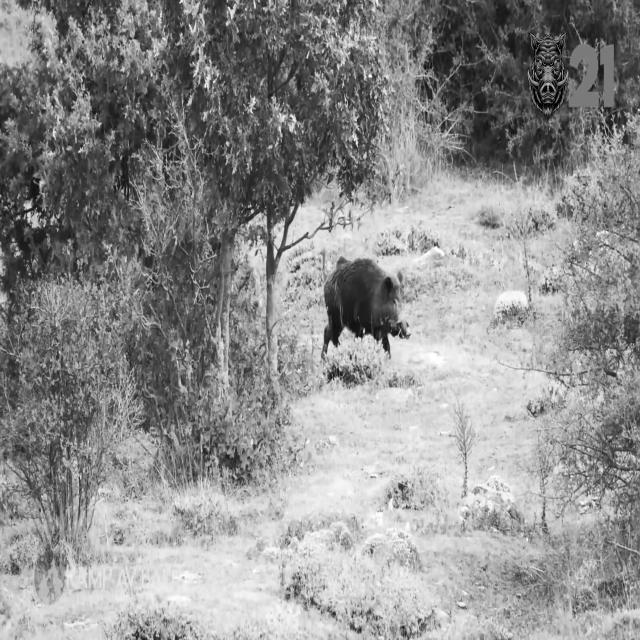boar: (321, 257, 410, 356)
